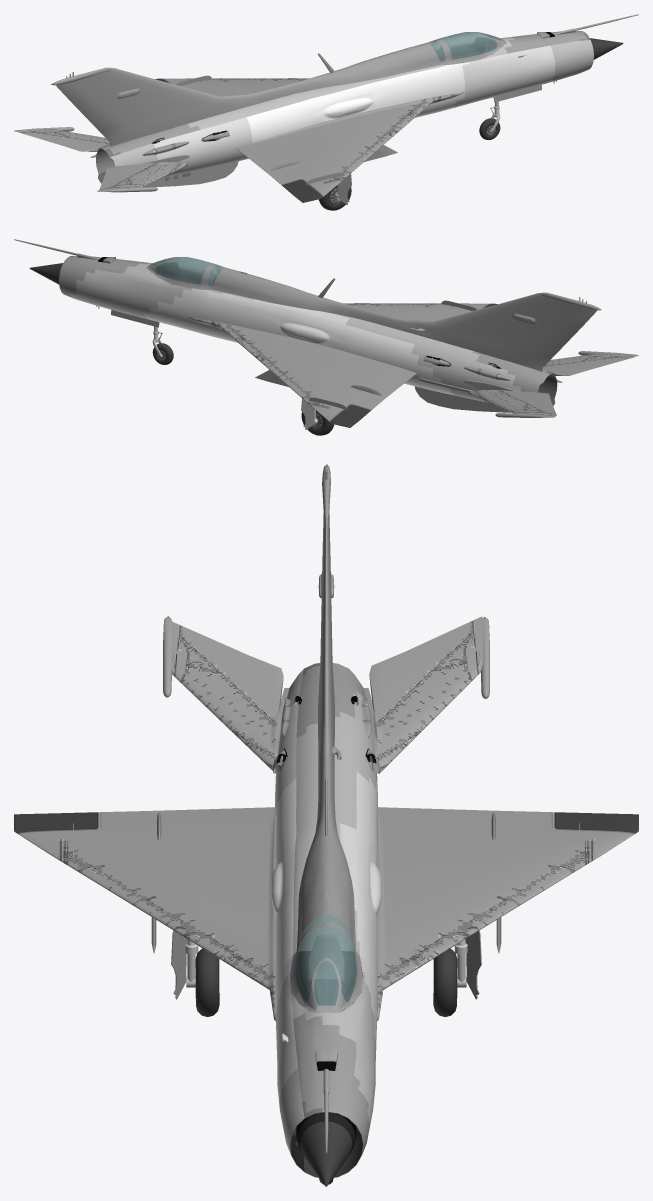
Rendered from mig21geardown.glb.
The picture shows the model from 3 angles, top to bottom: view 1: azimuth 30°, elevation 25°; view 2: azimuth 150°, elevation 25°; view 3: azimuth 270°, elevation 25°; orthographic projection. The views are drawn at different scales.
Visible parts, largest first — view 1: Cylinder02-FACES, Object02-FACES, Shape04-FACES, kabina02-FACES (×2), Shape03-FACES, Line35-FACES, kabina01-FACES, Line34-FACES, Box03-FACES, Cone01-FACES, Torus06-FACES, Cylinder39-FACES (+1 smaller); view 2: Cylinder02-FACES, Object02-FACES, Shape03-FACES, kabina02-FACES (×2), Shape04-FACES, Line34-FACES, kabina01-FACES, Line35-FACES, Box03-FACES, Cone01-FACES, Torus05-FACES, Cylinder39-FACES (+1 smaller); view 3: Cylinder02-FACES, Shape04-FACES, Shape03-FACES, Object02-FACES, Line34-FACES, Line35-FACES, kabina02-FACES (×2), kabina01-FACES, Cone01-FACES, Torus06-FACES, Torus05-FACES.
Boxes of the visible parts, box(x1,y1,x2,y2) form: Cylinder02-FACES: box(96, 31, 593, 183); Object02-FACES: box(56, 42, 441, 146); Shape04-FACES: box(236, 92, 464, 202); kabina02-FACES (×2): box(428, 32, 506, 64); Shape03-FACES: box(155, 78, 309, 96); Line35-FACES: box(99, 162, 189, 190); kabina01-FACES: box(428, 32, 501, 61); Line34-FACES: box(15, 129, 110, 151); Box03-FACES: box(143, 161, 238, 187); Cone01-FACES: box(590, 38, 623, 59); Torus06-FACES: box(318, 185, 351, 210); Cylinder39-FACES: box(51, 67, 112, 85); Cylinder02-FACES: box(59, 256, 557, 406); Object02-FACES: box(211, 267, 596, 371); Shape03-FACES: box(188, 317, 416, 427); kabina02-FACES (×2): box(146, 257, 224, 289); Shape04-FACES: box(344, 303, 497, 321); Line34-FACES: box(467, 390, 556, 415); kabina01-FACES: box(152, 257, 224, 285); Line35-FACES: box(542, 353, 635, 375); Box03-FACES: box(414, 386, 510, 412); Cone01-FACES: box(29, 263, 62, 284); Torus05-FACES: box(301, 411, 334, 435); Cylinder39-FACES: box(540, 292, 601, 310); Cylinder02-FACES: box(271, 663, 381, 1177); Shape04-FACES: box(14, 807, 275, 1020); Shape03-FACES: box(377, 807, 638, 1020); Object02-FACES: box(296, 514, 356, 951); Line34-FACES: box(369, 616, 483, 773); Line35-FACES: box(170, 621, 283, 770); kabina02-FACES (×2): box(290, 914, 362, 1012); kabina01-FACES: box(296, 914, 356, 1005); Cone01-FACES: box(296, 1112, 356, 1186); Torus06-FACES: box(195, 948, 219, 1016); Torus05-FACES: box(433, 948, 457, 1016).
Size of the model in its own units: 14.82 by 4.13 by 7.14.
Materials: 76 (54 with a texture image).
